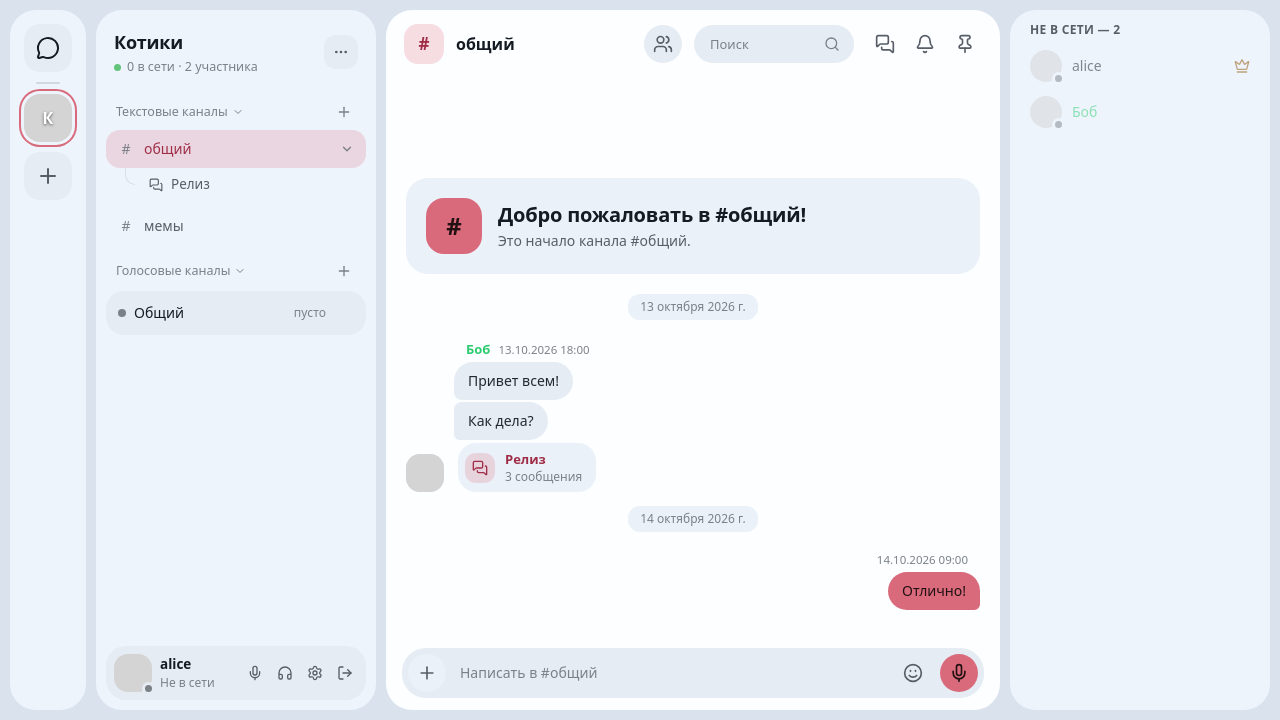
Test: server sidebar › folds the threads of a channel, keeping their count in view
Check: the link "Релиз" is shown, box top-left (149, 175), bottom-right (210, 193)
Click the button named "Свернуть треды #общий" at (346, 149), box top-left (333, 137), bottom-right (360, 161)
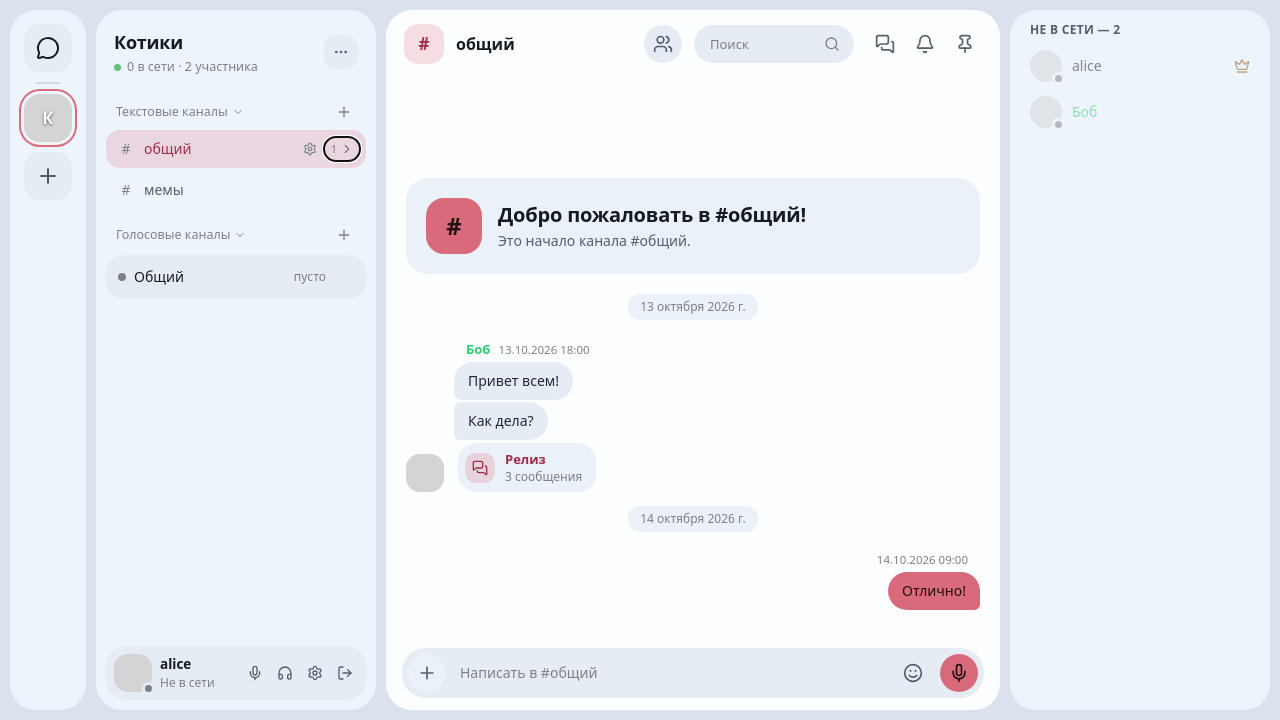
Check: the button named "Показать треды #общий (1)" is collapsed
Click the button named "Показать треды #общий (1)" at (342, 149), box top-left (324, 137), bottom-right (360, 161)
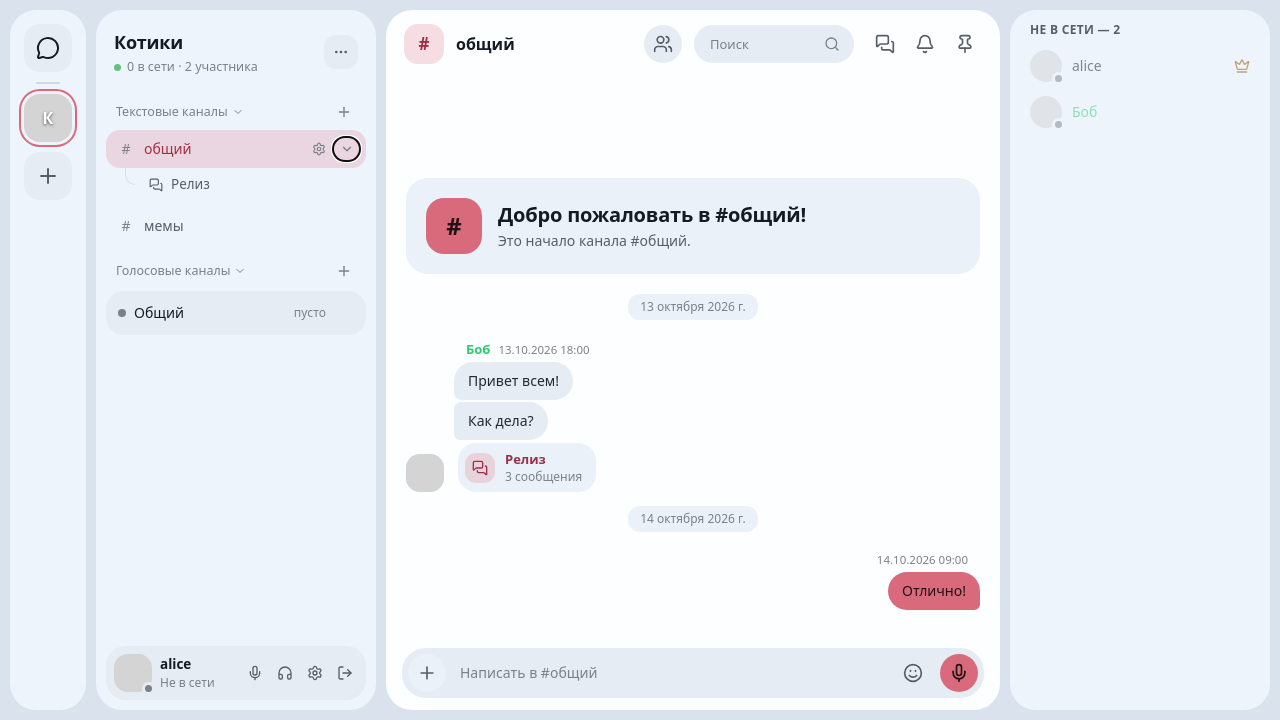
Check: the link "Релиз" is shown, box top-left (149, 175), bottom-right (210, 193)
